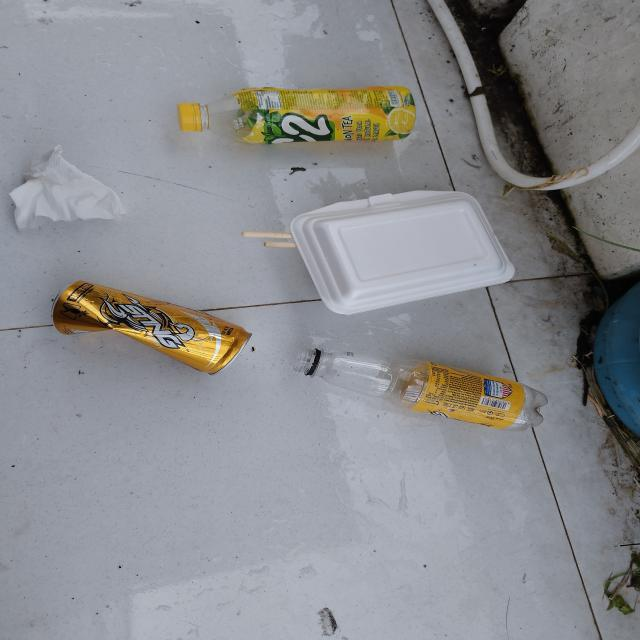bottle: (292, 348, 546, 432), (178, 86, 415, 146)
can: (51, 281, 253, 376)
foam box: (289, 189, 516, 316)
napkin: (8, 144, 126, 232)
